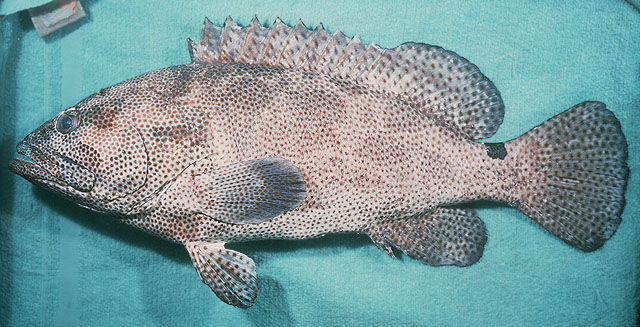fish: (8, 12, 631, 310)
